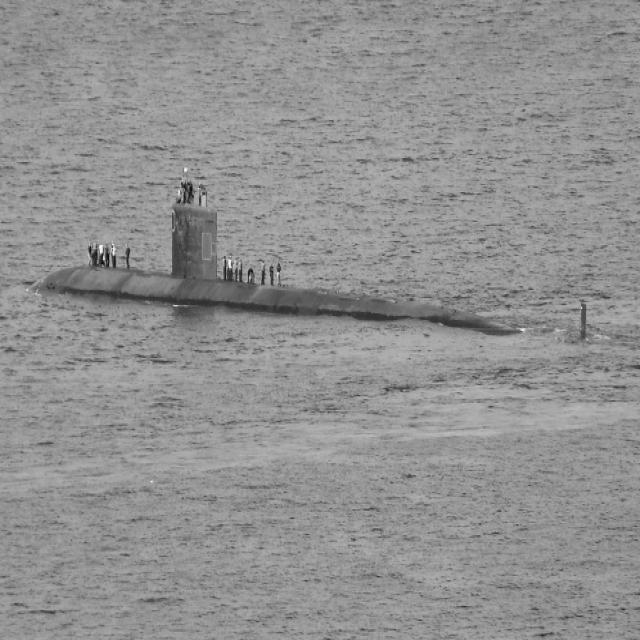submarine: (34, 203, 589, 340)
